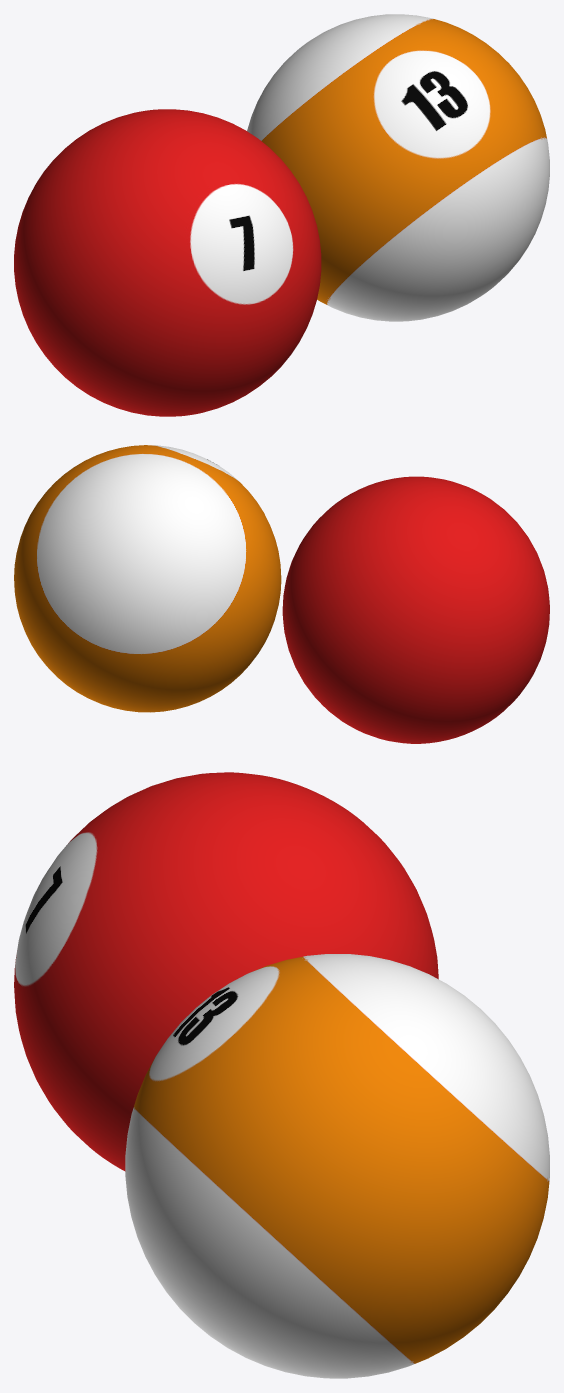
File: 2ball.obj
3 views of the same model, one above another, from view 1: azimuth 30°, elevation 25°; view 2: azimuth 150°, elevation 25°; view 3: azimuth 270°, elevation 25° (orthographic). The views are drawn at different scales.
Parts seen in each view (by area): view 1: 7_메쉬.009, 13_메쉬.006; view 2: 13_메쉬.006, 7_메쉬.009; view 3: 13_메쉬.006, 7_메쉬.009.
Part boxes in pixels (<box>): 7_메쉬.009: <box>14,109,321,416</box>; 13_메쉬.006: <box>247,14,549,321</box>; 13_메쉬.006: <box>14,445,281,712</box>; 7_메쉬.009: <box>282,476,549,743</box>; 13_메쉬.006: <box>125,954,549,1378</box>; 7_메쉬.009: <box>14,772,438,1171</box>.
Size of the model in its own units: 0.8414 by 0.419 by 0.5282.
2 materials, 2 textured.
